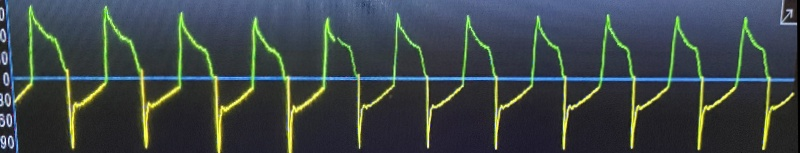peepi: (11, 6, 781, 153)
